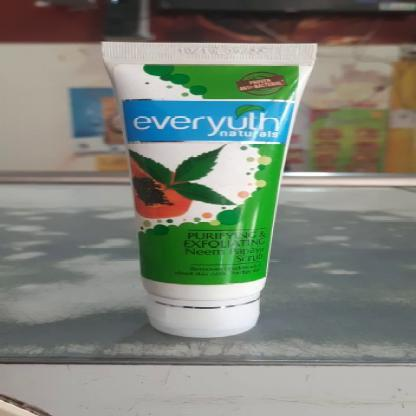EY_SCR_PURIFYING_EXFOLTNG_NEEM_PAPAYA_50G: (105, 43, 320, 338)
